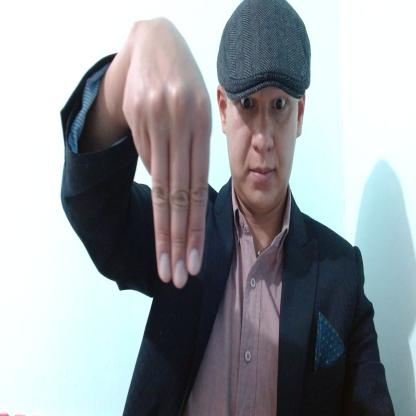M: (123, 18, 212, 288)
